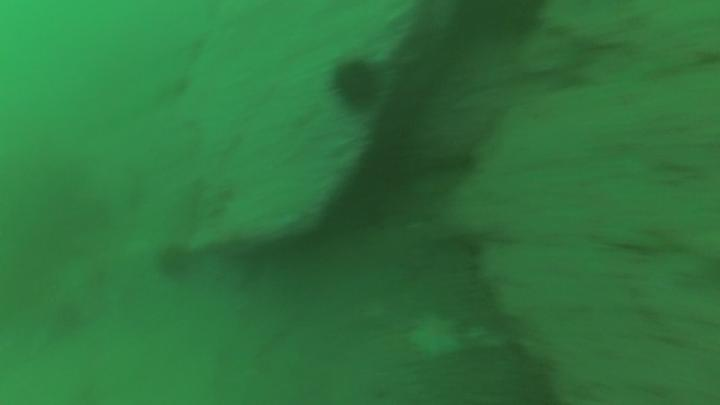echinus: (330, 57, 382, 109), (154, 244, 196, 285)
starfish: (409, 311, 466, 363)
